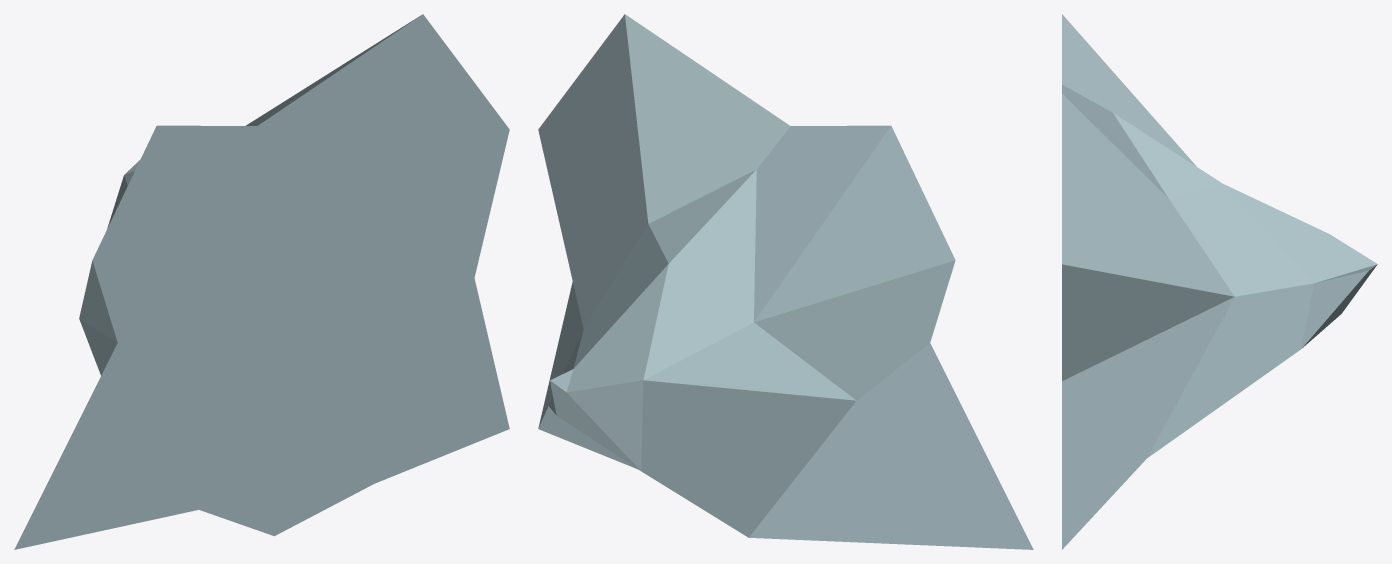
The model's file is ice_share_icerock_3.FBX.
3 views of the same model, side by side, from view 1: azimuth 30°, elevation 25°; view 2: azimuth 150°, elevation 25°; view 3: azimuth 270°, elevation 25° (orthographic). The views are drawn at different scales.
Visible parts, largest first — view 1: winter_cube_3; view 2: winter_cube_3; view 3: winter_cube_3.
Boxes of the visible parts, <box> form: winter_cube_3: <box>14,14,509,549</box>; winter_cube_3: <box>538,14,1033,549</box>; winter_cube_3: <box>1062,14,1377,549</box>.
Bounding box in the file's own units: 517 × 485 × 299.
